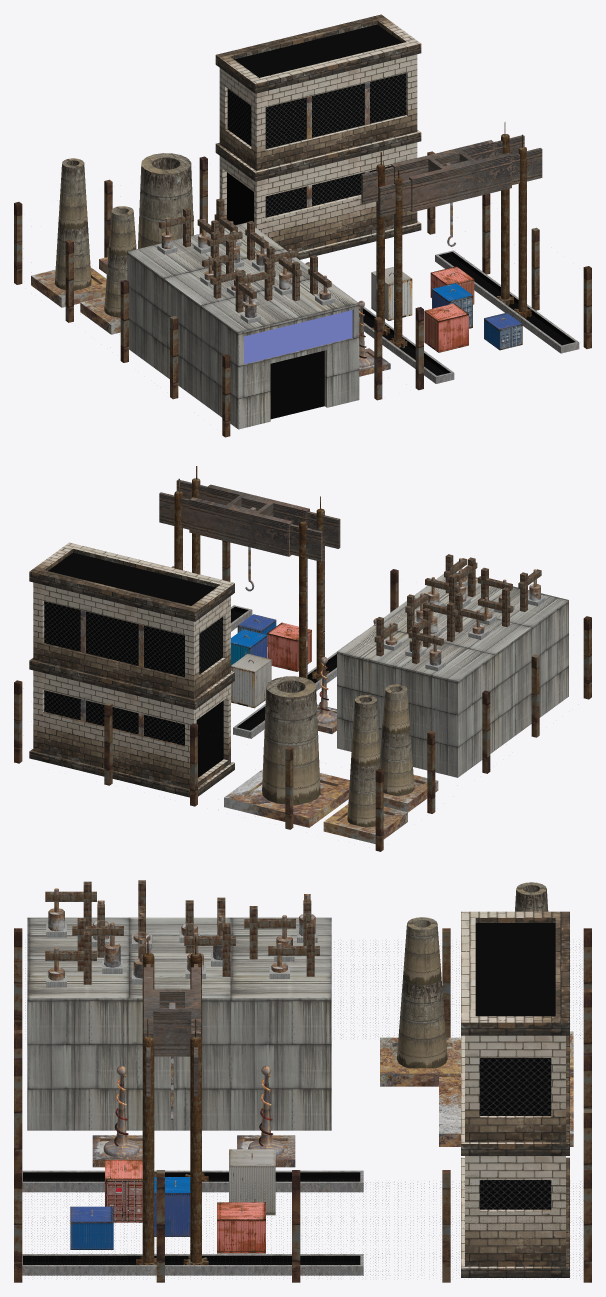
File: Factory.FBX
3 views of the same model, one above another, from view 1: azimuth 30°, elevation 25°; view 2: azimuth 150°, elevation 25°; view 3: azimuth 270°, elevation 25° (orthographic). The views are drawn at different scales.
Visible parts, largest first — view 1: Box084, refinery_building_2, Cylinder055, Factory, Cylinder029, Cylinder030, Box026, Cylinder062, Box081, Box027, Box024, Box071 (+17 smaller); view 2: Box084, refinery_building_2, Cylinder055, Factory, Cylinder029, Cylinder030, Box023, Cylinder062, Box080, Box024, Box081, Box027 (+14 smaller); view 3: refinery_building_2, Box084, Cylinder055, Box026, Factory, Cylinder062, Box027, Box080, Box087, Box072, Box081, Box071 (+19 smaller).
Boxes of the visible parts, bbox=[...] form: Box084: bbox=[215, 14, 421, 259]; refinery_building_2: bbox=[127, 222, 359, 429]; Cylinder055: bbox=[361, 122, 542, 348]; Factory: bbox=[227, 73, 406, 217]; Cylinder029: bbox=[138, 153, 193, 248]; Cylinder030: bbox=[54, 158, 91, 290]; Box026: bbox=[435, 250, 579, 353]; Cylinder062: bbox=[104, 206, 136, 317]; Box081: bbox=[424, 303, 468, 352]; Box027: bbox=[331, 283, 454, 383]; Box024: bbox=[31, 267, 106, 307]; Box071: bbox=[484, 312, 522, 350]; Box084: bbox=[29, 542, 234, 797]; refinery_building_2: bbox=[337, 572, 568, 777]; Cylinder055: bbox=[159, 466, 340, 680]; Factory: bbox=[44, 601, 222, 745]; Cylinder029: bbox=[262, 676, 320, 804]; Cylinder030: bbox=[347, 695, 384, 827]; Box023: bbox=[224, 769, 349, 827]; Cylinder062: bbox=[380, 684, 414, 795]; Box080: bbox=[231, 653, 271, 708]; Box024: bbox=[323, 804, 407, 843]; Box081: bbox=[267, 622, 311, 671]; Box027: bbox=[233, 635, 358, 738]; refinery_building_2: bbox=[27, 917, 331, 1130]; Box084: bbox=[461, 911, 569, 1277]; Cylinder055: bbox=[136, 936, 208, 1264]; Box026: bbox=[22, 1254, 363, 1275]; Factory: bbox=[479, 1058, 551, 1209]; Cylinder062: bbox=[397, 917, 447, 1068]; Box027: bbox=[22, 1170, 363, 1192]; Box080: bbox=[229, 1149, 275, 1215]; Box087: bbox=[217, 1202, 265, 1253]; Box072: bbox=[380, 1037, 460, 1086]; Box081: bbox=[105, 1159, 142, 1222]; Box071: bbox=[70, 1206, 113, 1249].
Bounding box in the file's own units: 199 × 96.66 × 198.
